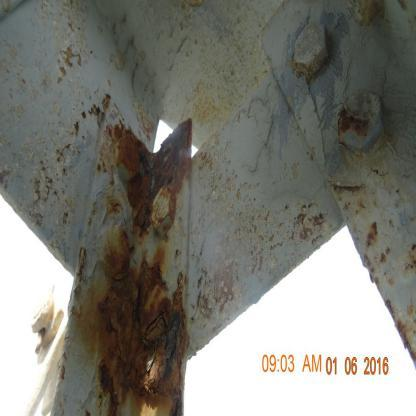Grado3: (106, 228, 191, 415), (116, 118, 214, 198)
